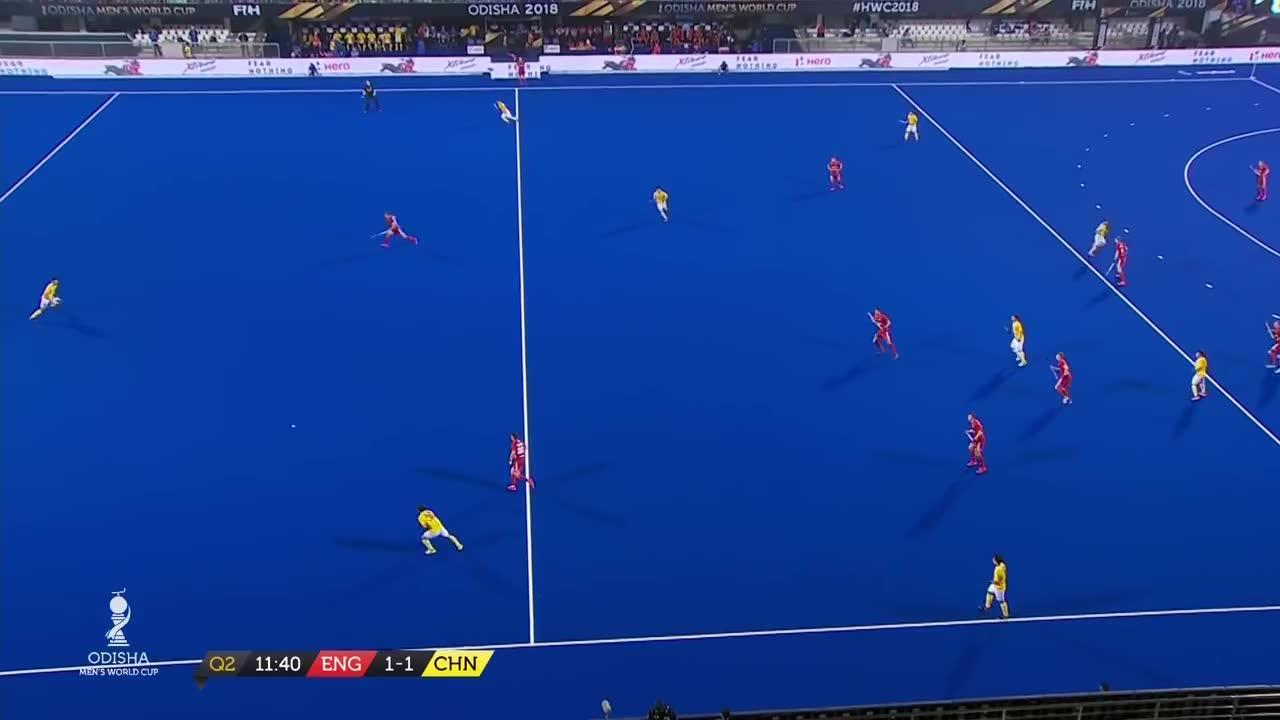ball: (287, 420, 303, 436)
